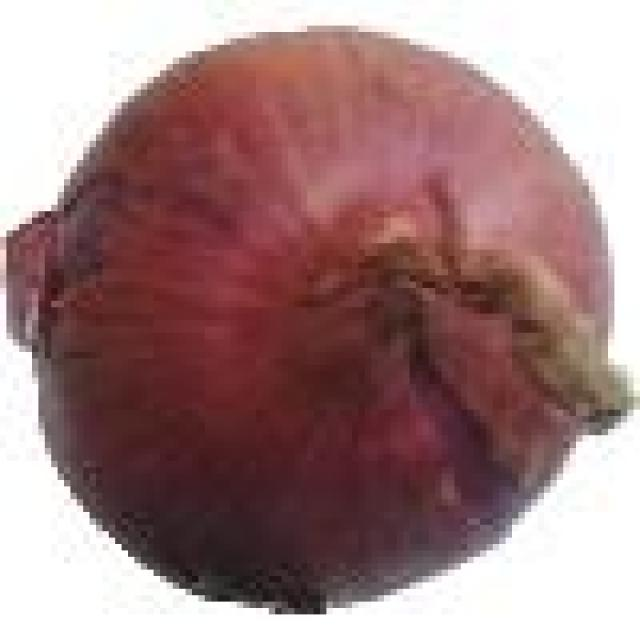Onion: (6, 26, 621, 608)
